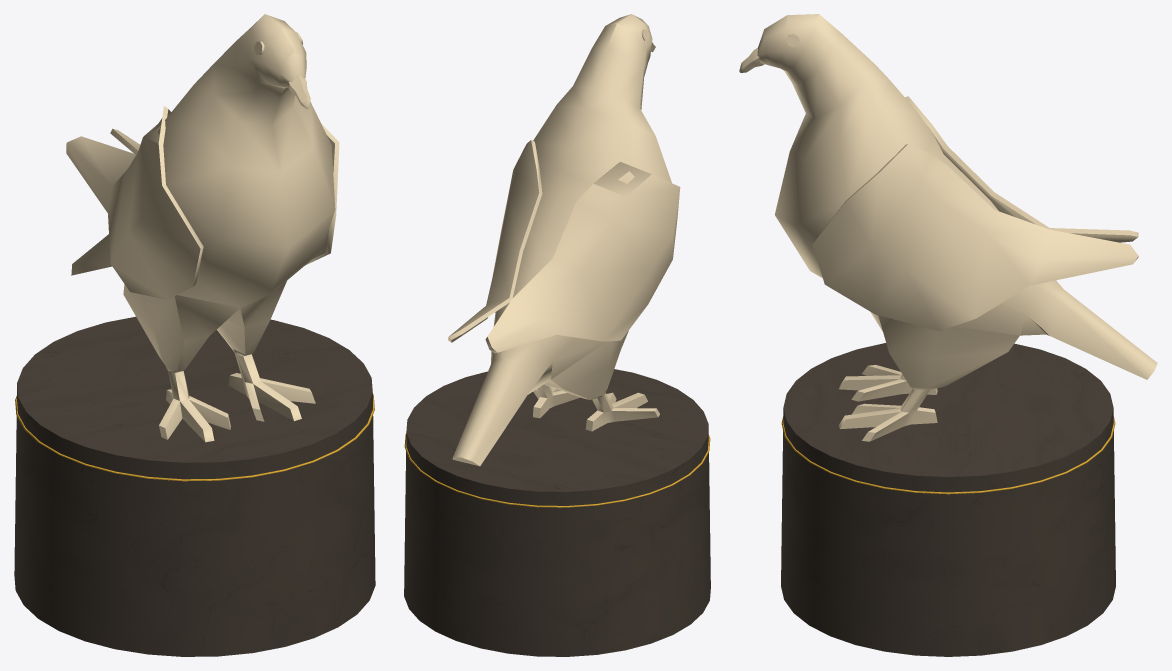
File: peace.glb
The picture shows the model from 3 angles, left to right: view 1: azimuth 30°, elevation 25°; view 2: azimuth 150°, elevation 25°; view 3: azimuth 270°, elevation 25°; orthographic projection. The views are drawn at different scales.
Visible parts, largest first — view 1: marble_column, Geo_Dove, gold_inlay_ring; view 2: marble_column, Geo_Dove, gold_inlay_ring; view 3: marble_column, Geo_Dove, gold_inlay_ring.
Boxes of the visible parts, x1=… form: marble_column: x1=14, y1=316, x2=375, y2=656; Geo_Dove: x1=66, y1=14, x2=339, y2=442; gold_inlay_ring: x1=15, y1=394, x2=374, y2=481; marble_column: x1=404, y1=369, x2=710, y2=656; Geo_Dove: x1=448, y1=14, x2=680, y2=466; gold_inlay_ring: x1=404, y1=433, x2=710, y2=507; marble_column: x1=781, y1=343, x2=1115, y2=656; Geo_Dove: x1=739, y1=14, x2=1157, y2=441; gold_inlay_ring: x1=781, y1=416, x2=1115, y2=494.
Size of the model in its own units: 0.4302 by 0.8104 by 0.537.
Materials: 3 (1 with a texture image).
